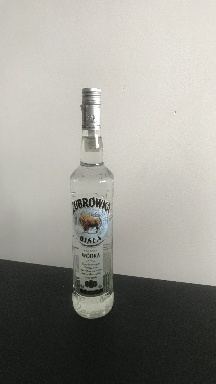butelka: (68, 84, 115, 321)
